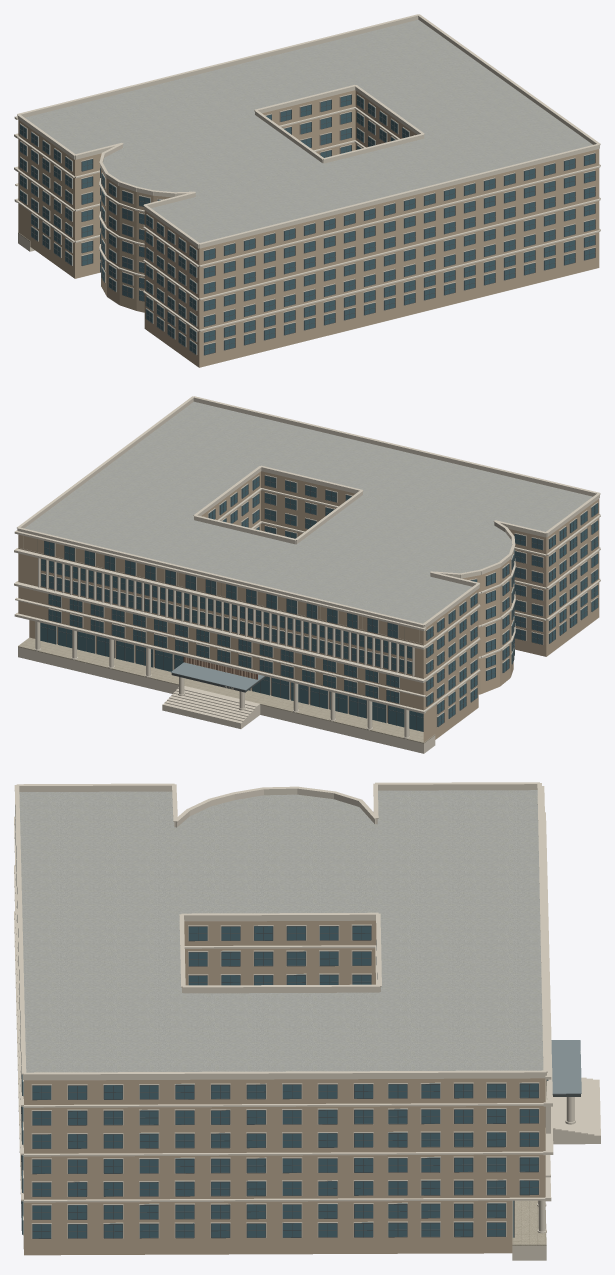
File: huicui.glb
3 views of the same model, one above another, from view 1: azimuth 30°, elevation 25°; view 2: azimuth 150°, elevation 25°; view 3: azimuth 270°, elevation 25° (orthographic). The views are drawn at different scales.
Parts seen in each view (by area): view 1: landmark-huicui; view 2: landmark-huicui; view 3: landmark-huicui.
Boxes of the visible parts, x1,y1,x2,y2 form: landmark-huicui: (14,14,600,367); landmark-huicui: (14,396,600,753); landmark-huicui: (14,782,600,1260).
Bounding box in the file's own units: 84.95 × 25.57 × 71.9.
11 materials, 2 textured.
